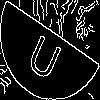U: (25, 25, 67, 83)
